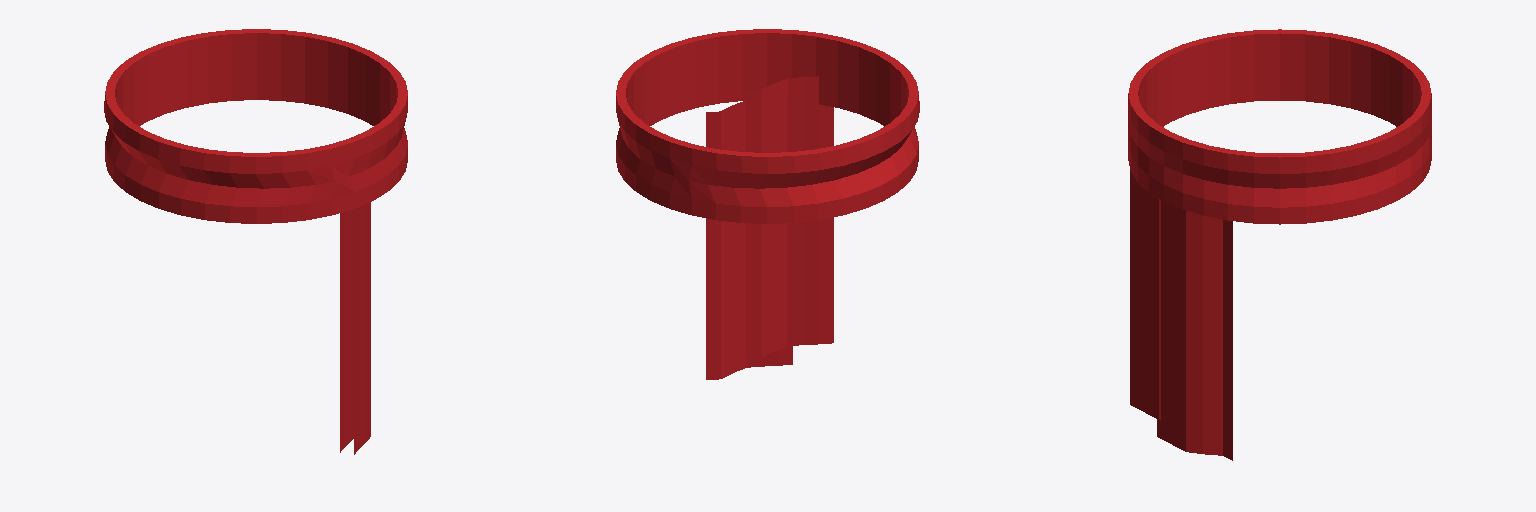
File: scarf.obj
3 renders of one model, left to right at view 1: azimuth 30°, elevation 25°; view 2: azimuth 150°, elevation 25°; view 3: azimuth 270°, elevation 25°, orthographic.
Parts seen in each view (by area): view 1: Tube, Plane, Plane.1; view 2: Tube, Plane, Plane.1; view 3: Tube, Plane.1, Plane.
Part boxes in pixels (x1,y1,x2,y2): Tube: (104,29,407,223); Plane: (340,208,356,452); Plane.1: (354,202,370,454); Tube: (616,29,919,223); Plane: (746,76,833,358); Plane.1: (706,97,792,379); Tube: (1128,29,1431,224); Plane.1: (1157,200,1232,460); Plane: (1130,170,1160,419).
Bounding box in the file's own units: 412 × 486 × 410.